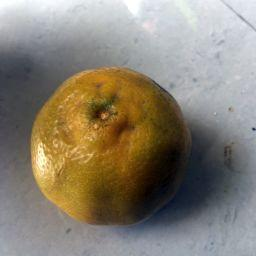Ripe: (30, 66, 191, 227)
